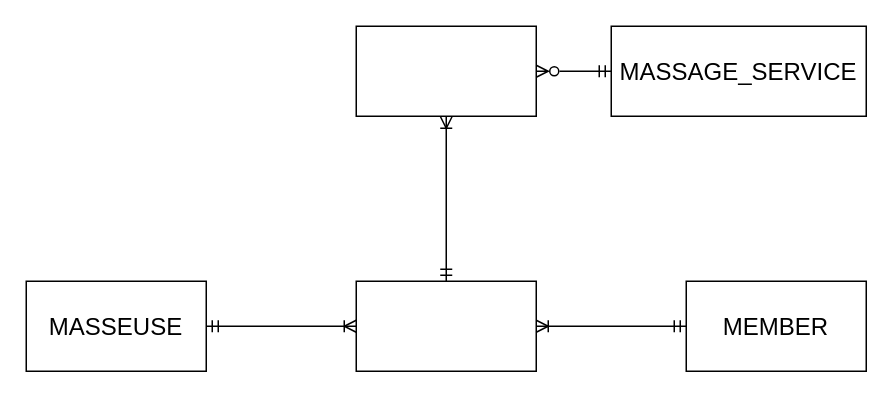
The diagram is 893 pixels wide and 398 high, and some of its shapes have lost their labels. The centre of each missing label's shape, as x and y in pixels:
"ORDER" belongs at pixel 445 70.
"VISIT" belongs at pixel 445 325.
